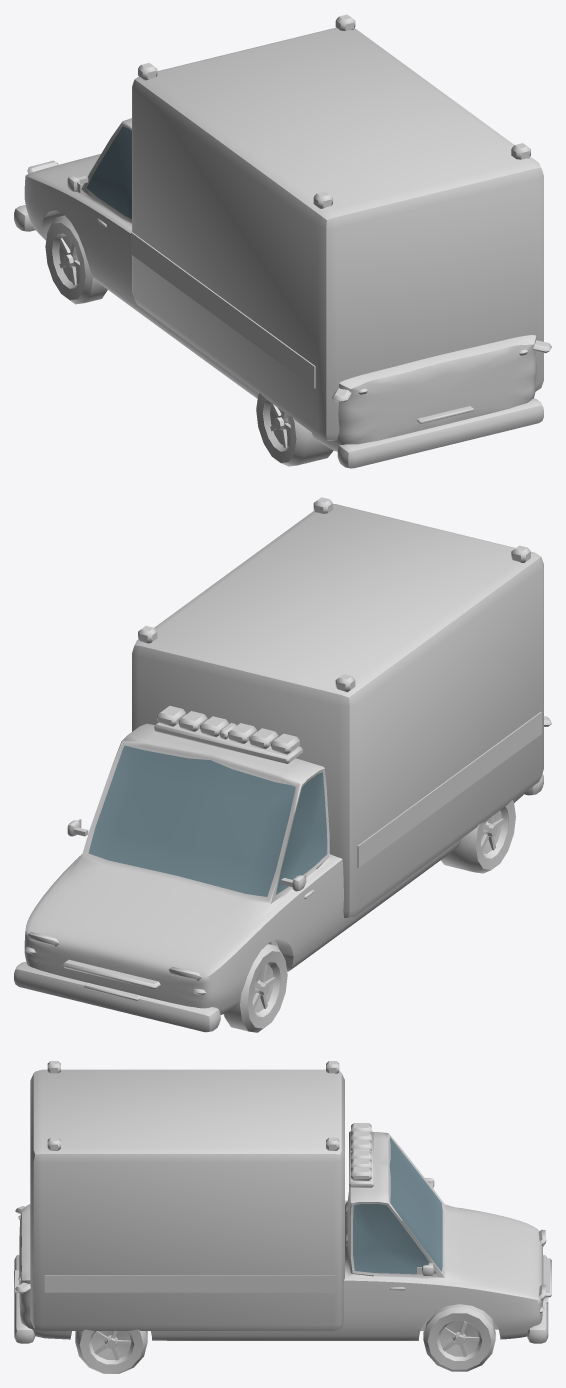
Rendered from car_ambulance.glb.
The picture shows the model from 3 angles, top to bottom: view 1: azimuth 30°, elevation 25°; view 2: azimuth 150°, elevation 25°; view 3: azimuth 270°, elevation 25°; orthographic projection. The views are drawn at different scales.
Parts seen in each view (by area): view 1: car_ambulance; view 2: car_ambulance; view 3: car_ambulance.
Part boxes in pixels (x1,y1,x2,y2): car_ambulance: (14,14,551,468); car_ambulance: (14,497,551,1032); car_ambulance: (14,1061,551,1373).
Bounding box in the file's own units: 2.24 × 2.7 × 5.64.
